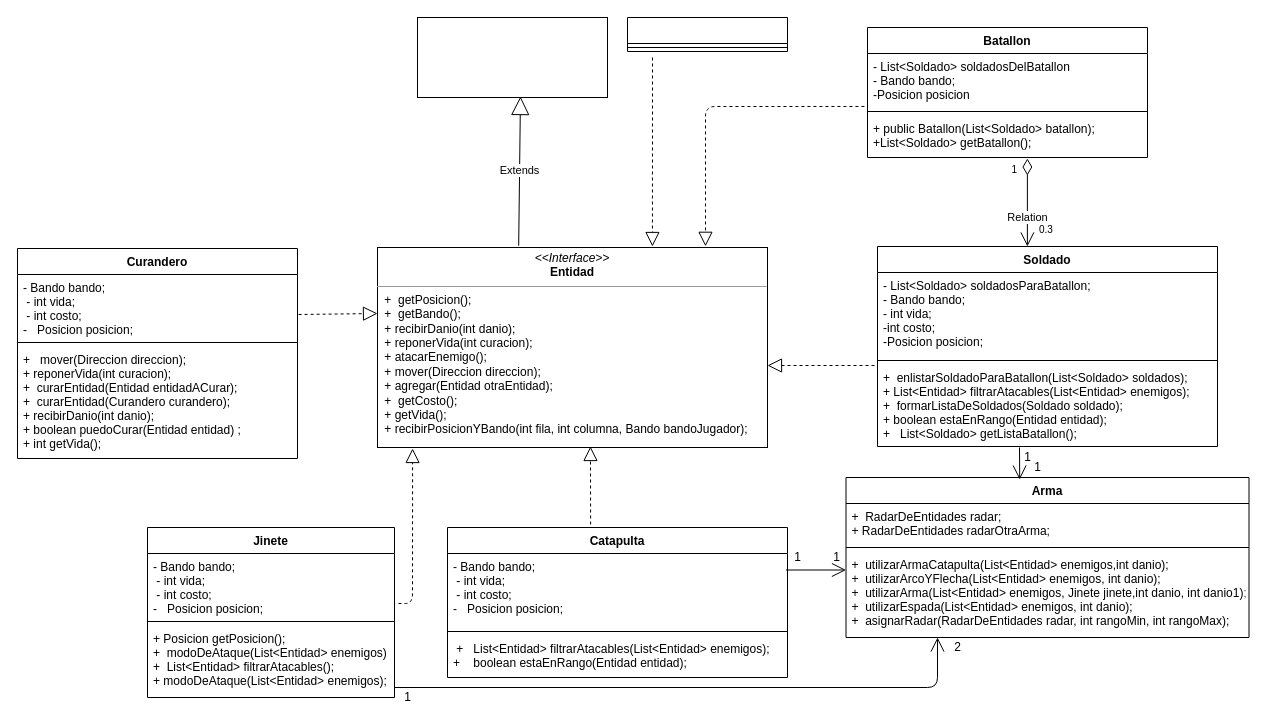
Image size: 1267x725. Some labels were removed from this diagram. Here are the shapes that lost their labels. From the top down, the centre of each, then its label:
At pixel 707 34: "ObjetoNull".
At pixel 512 57: "<<Interface>> Ataque + atacarEnemigo(Entidad);".
